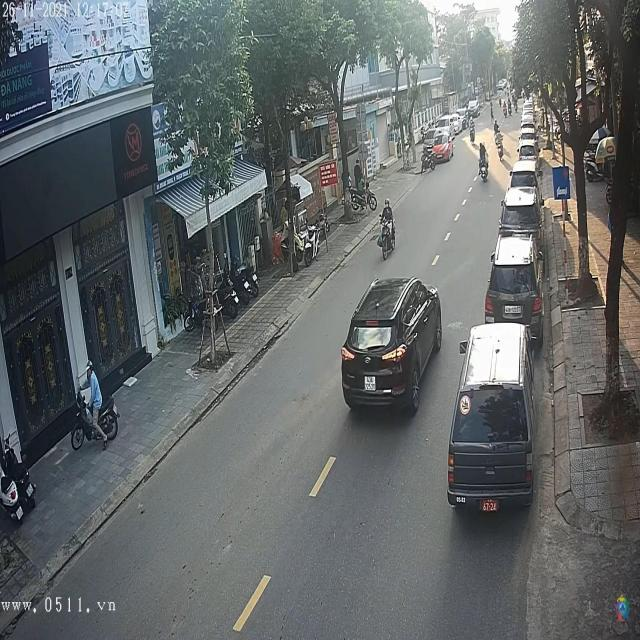car: (449, 325, 534, 512), (339, 275, 443, 410), (485, 233, 543, 329), (502, 166, 538, 225), (500, 188, 540, 236), (431, 129, 454, 161)
motorcycle: (70, 393, 120, 451), (380, 218, 397, 262), (478, 153, 490, 184)
